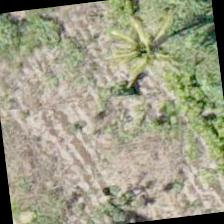Kelapa_Sawit: (108, 0, 209, 96)
